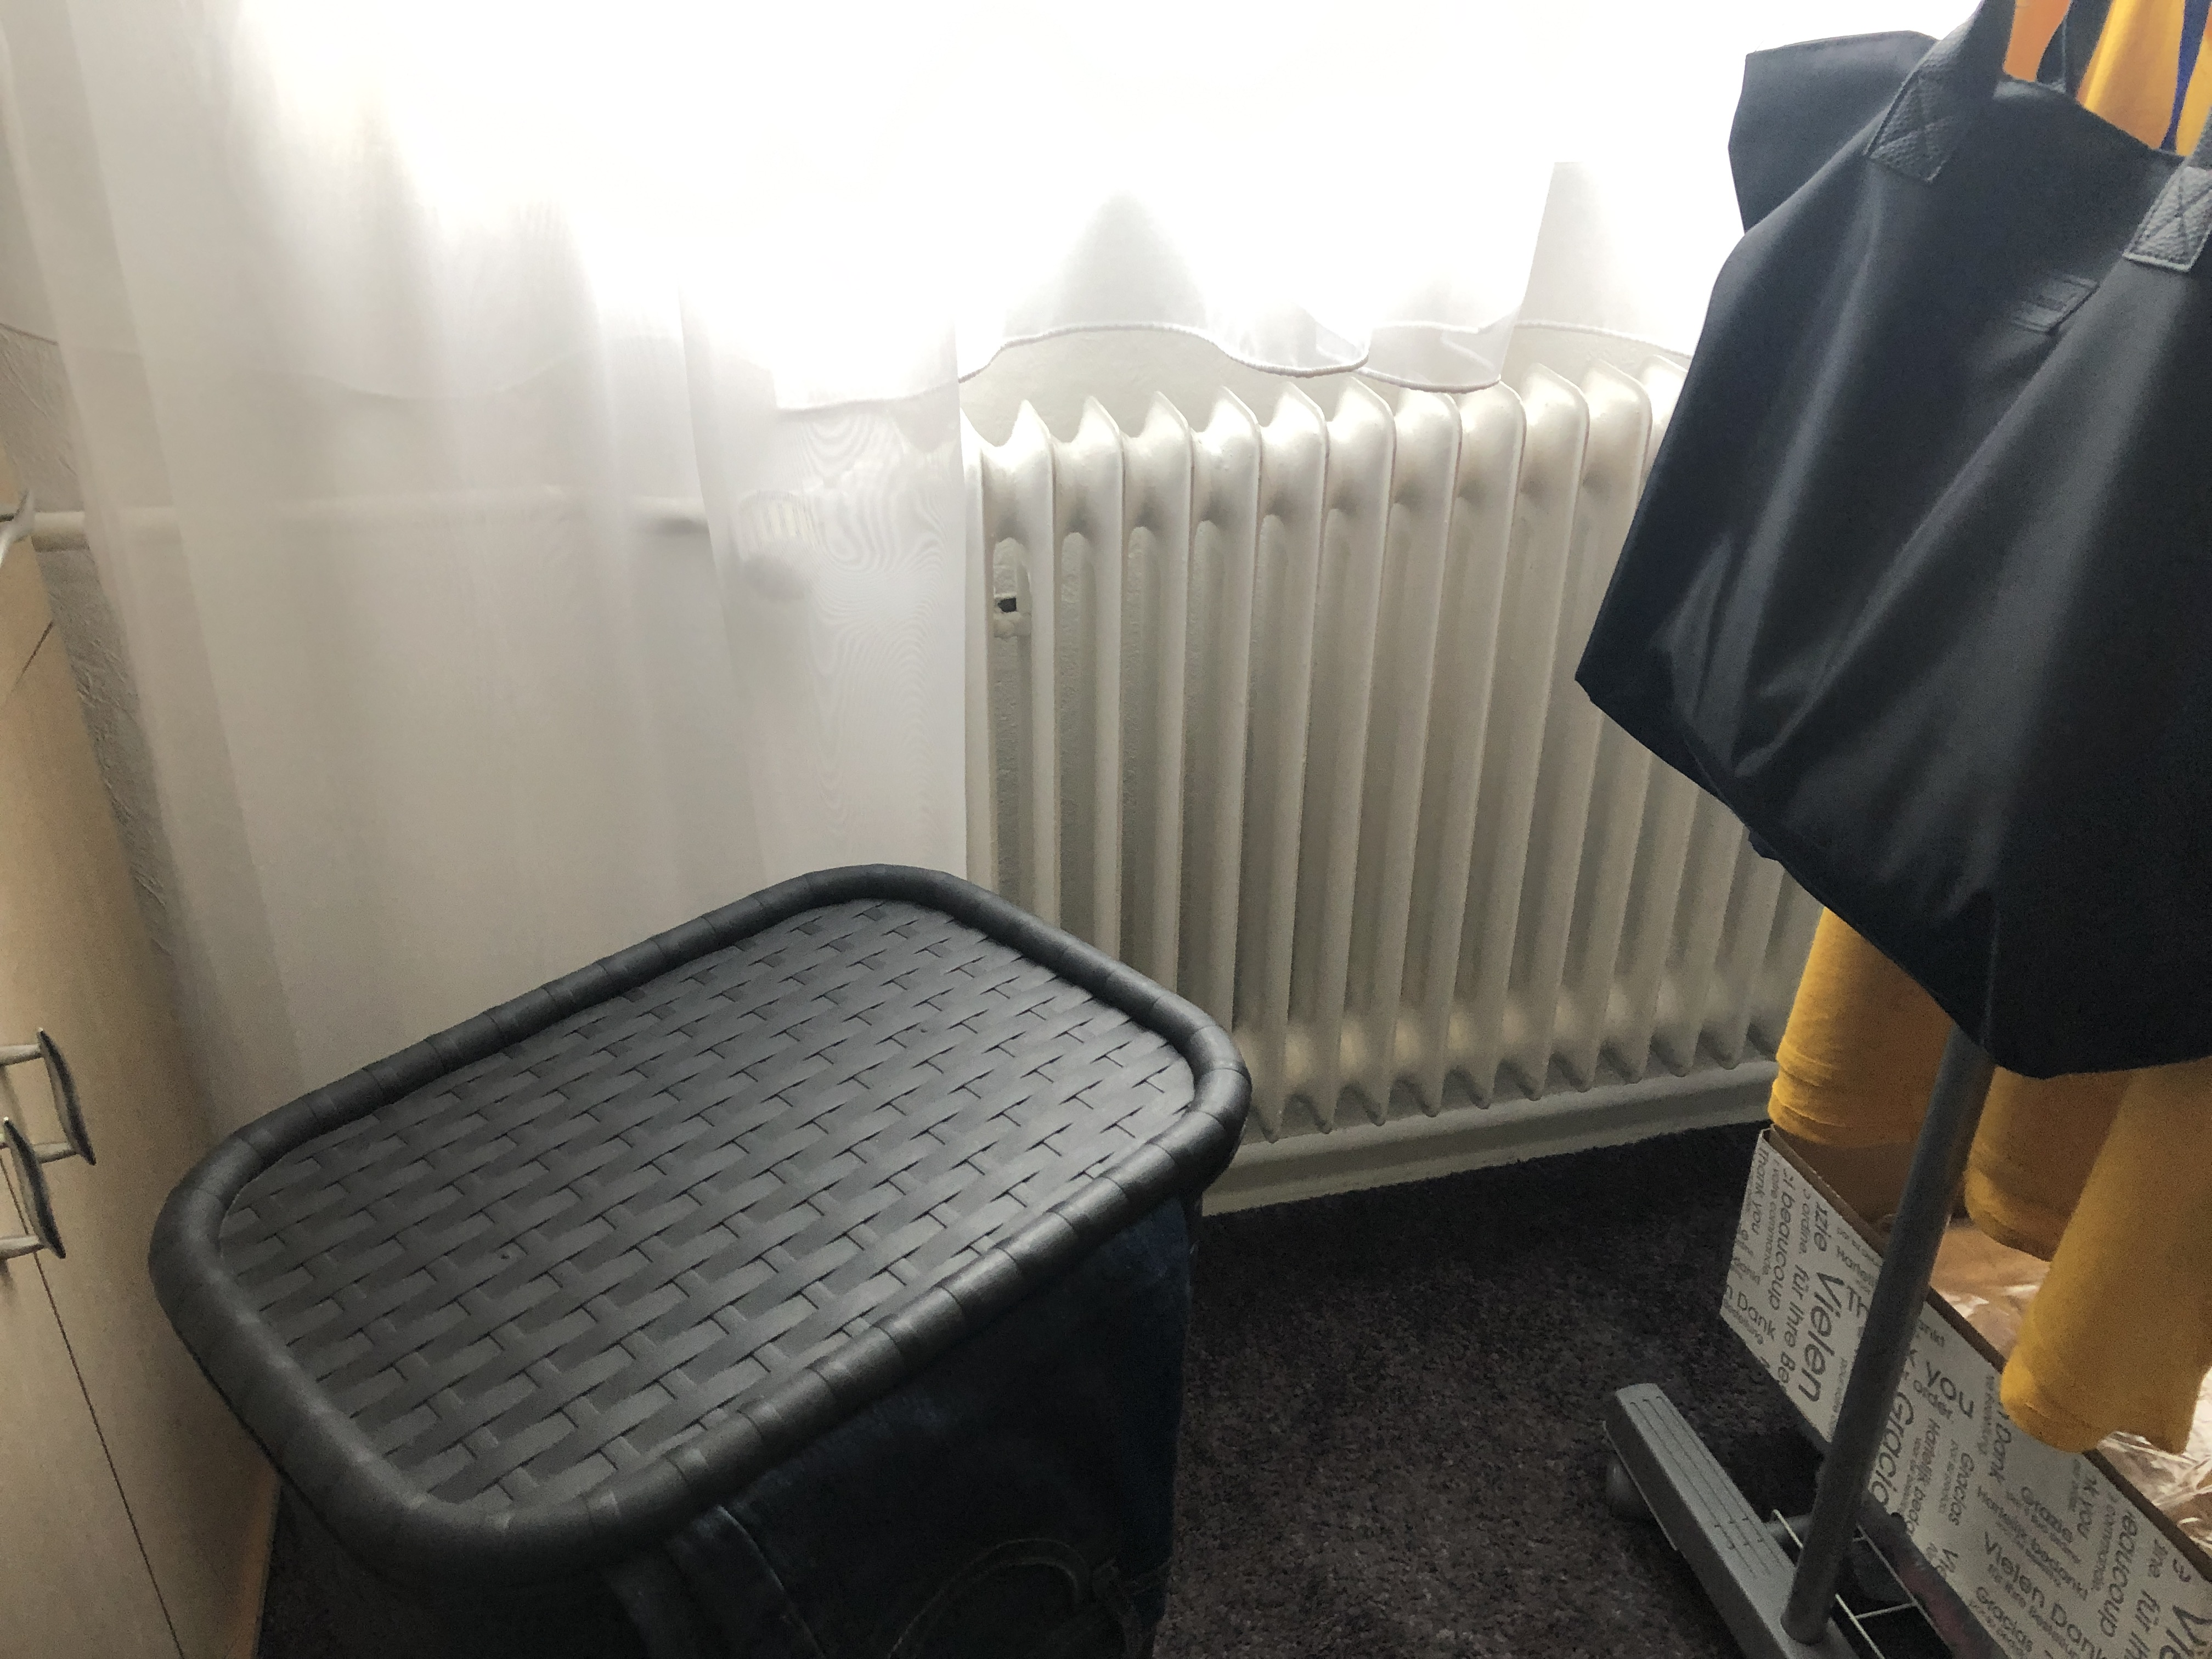Radiator: (921, 342, 1799, 1148)
